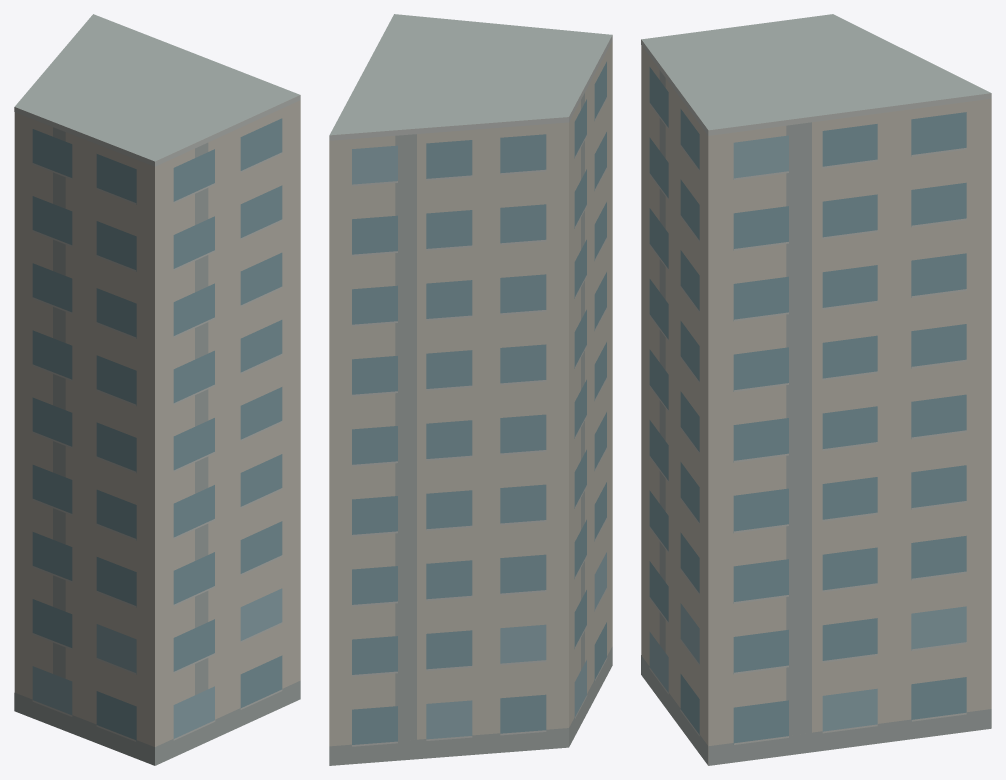
File: residential-66fb55cd-5474-4bee-9e39-be605c406505.glb
3 renders of one model, left to right at view 1: azimuth 30°, elevation 25°; view 2: azimuth 150°, elevation 25°; view 3: azimuth 270°, elevation 25°, orthographic. The views are drawn at different scales.
Parts seen in each view (by area): view 1: residential-66fb55cd-5474-4bee-9e39-be605c406505.tmp; view 2: residential-66fb55cd-5474-4bee-9e39-be605c406505.tmp; view 3: residential-66fb55cd-5474-4bee-9e39-be605c406505.tmp.
Part boxes in pixels (x1,y1,x2,y2): residential-66fb55cd-5474-4bee-9e39-be605c406505.tmp: [14, 14, 300, 765]; residential-66fb55cd-5474-4bee-9e39-be605c406505.tmp: [329, 14, 612, 765]; residential-66fb55cd-5474-4bee-9e39-be605c406505.tmp: [641, 14, 991, 765].
Size of the model in its own units: 11.01 by 28 by 14.
